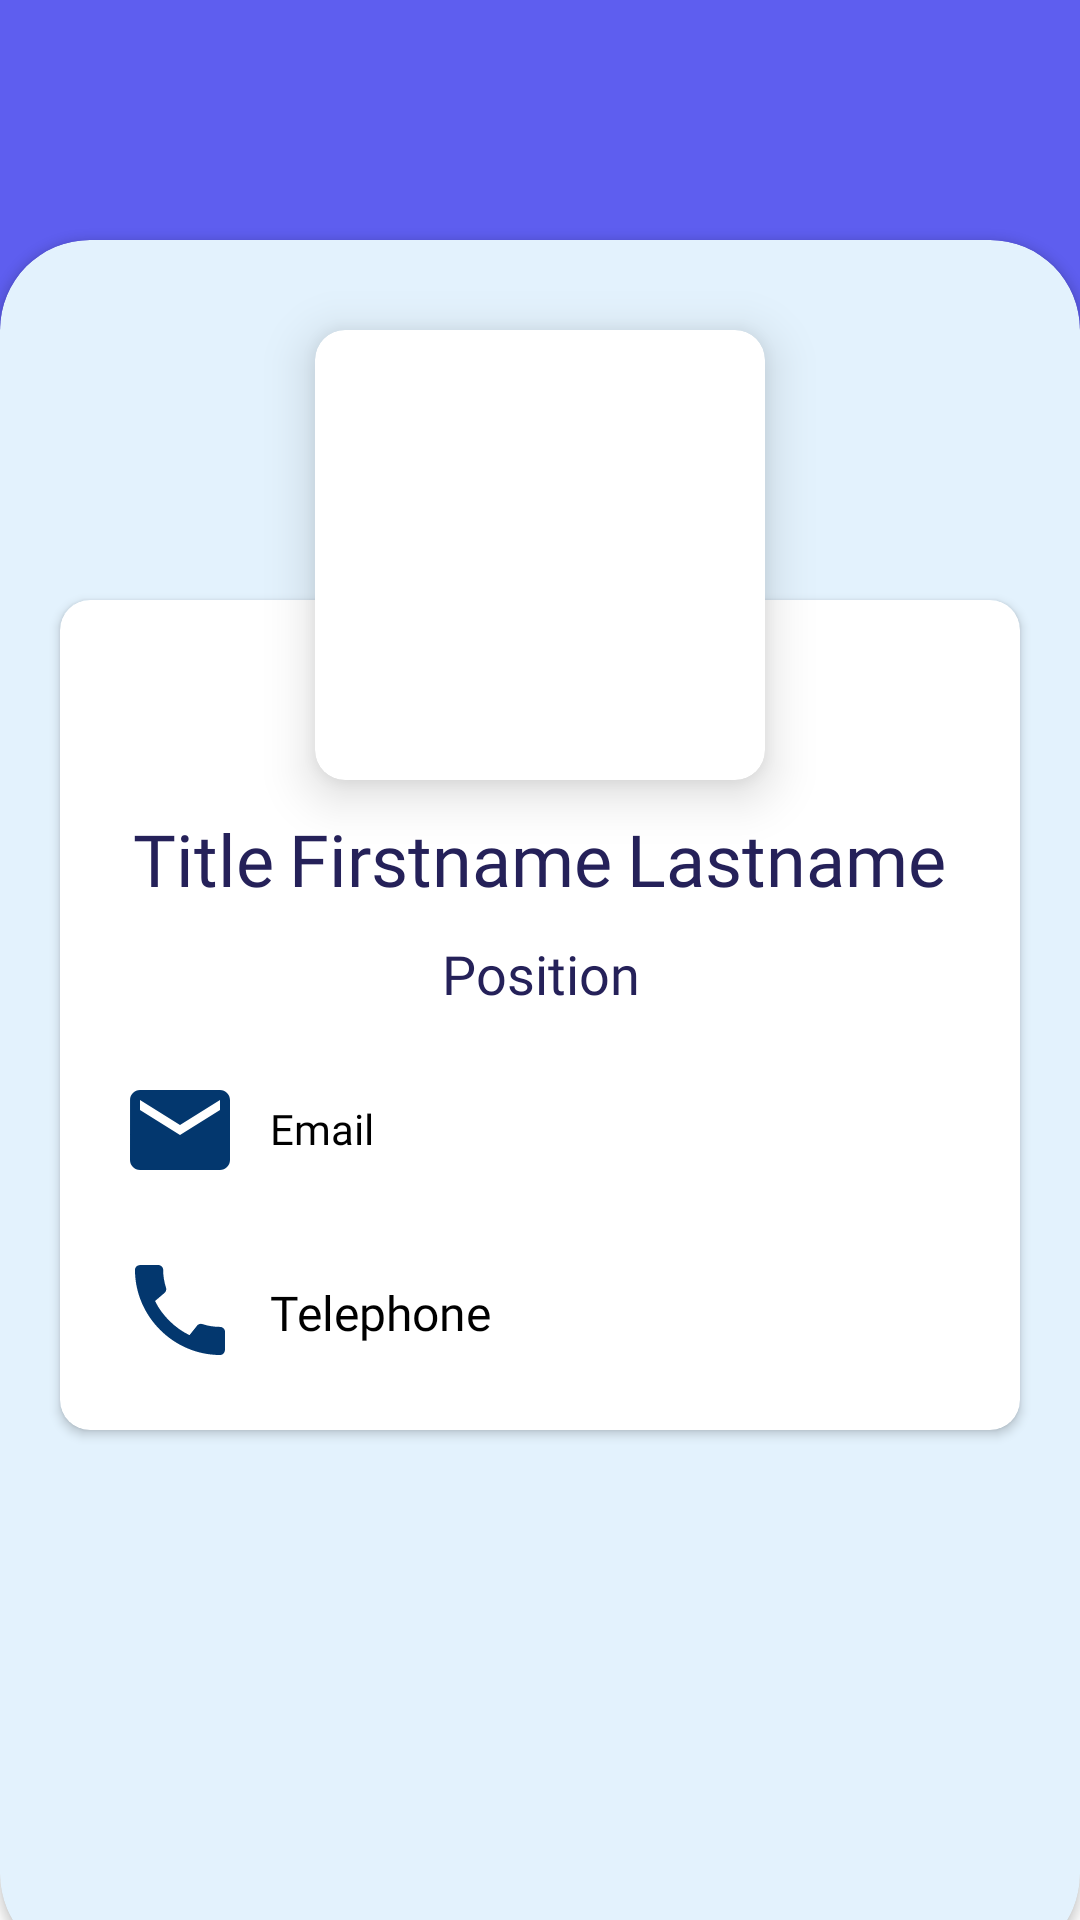

Named icons in this screenshot (1080px×1920px) and their bounding boxes, (x1=x1, y1=y1, x2=x2, y2=y2):
call: (x1=135, y1=1265, x2=225, y2=1355)
